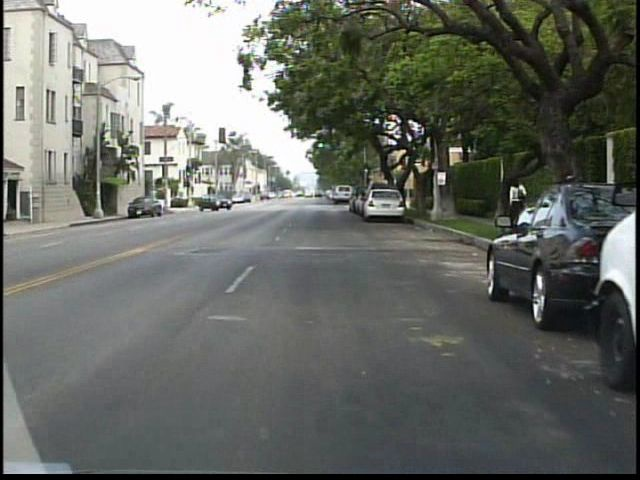person: (504, 172, 531, 234)
